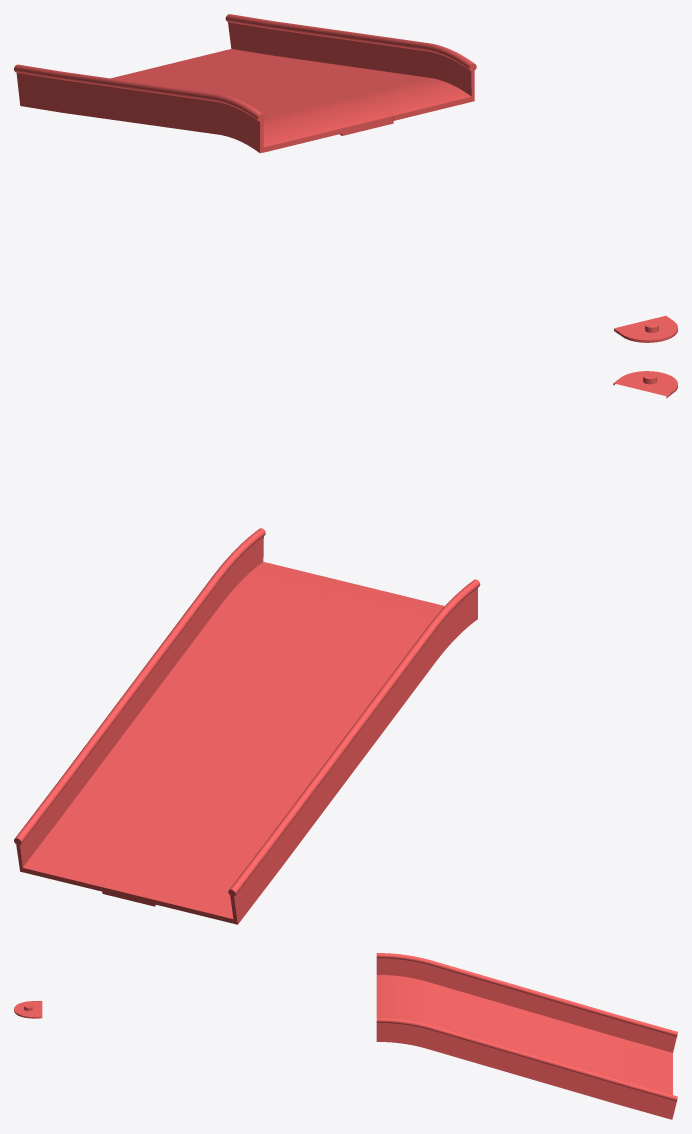
The model's file is trackpiece-ramp-connected-top.glb.
3 renders of one model, top to bottom at view 1: azimuth 30°, elevation 25°; view 2: azimuth 150°, elevation 25°; view 3: azimuth 270°, elevation 25°, orthographic. The views are drawn at different scales.
Visible parts, largest first — view 1: Track piece/short, Track piece/short.001; view 2: Track piece/short, Track piece/short.001; view 3: Track piece/short, Track piece/short.001.
Boxes of the visible parts, x1,y1,x2,y2 form: Track piece/short: (14, 14, 476, 153); Track piece/short.001: (614, 315, 677, 342); Track piece/short: (14, 528, 480, 924); Track piece/short.001: (613, 371, 677, 398); Track piece/short: (376, 953, 677, 1119); Track piece/short.001: (14, 1001, 42, 1018).
Bounding box in the file's own units: 8.39 × 6.11 × 35.32.
